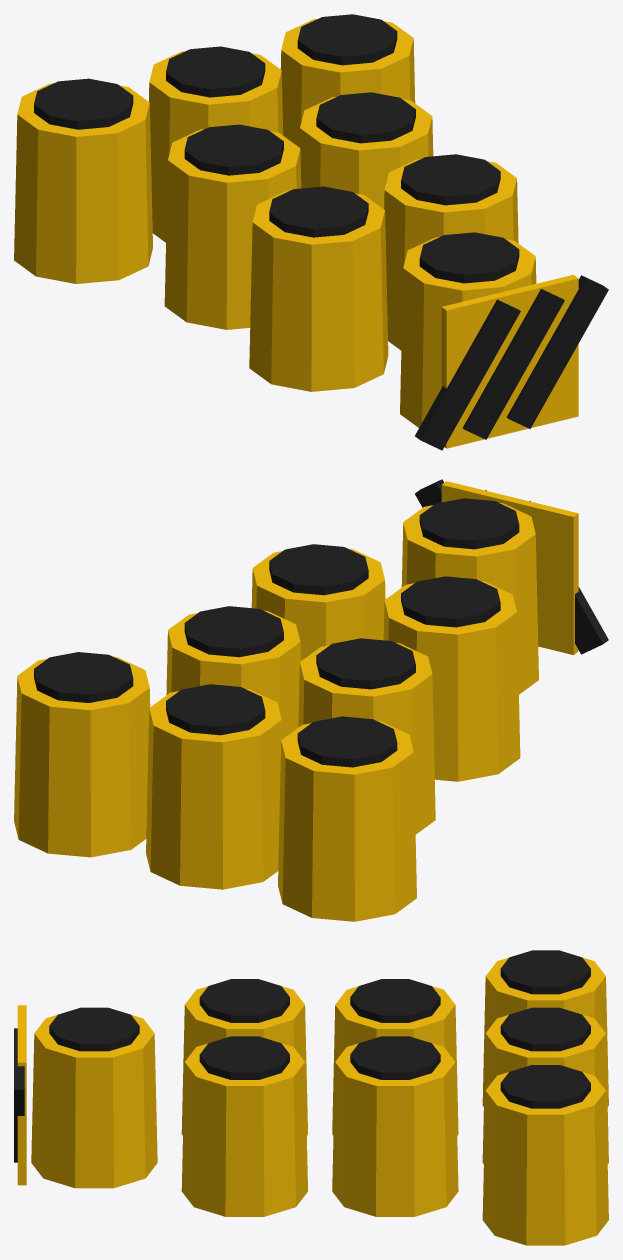
File: exits_cushion.glb
The picture shows the model from 3 angles, top to bottom: view 1: azimuth 30°, elevation 25°; view 2: azimuth 150°, elevation 25°; view 3: azimuth 270°, elevation 25°; orthographic projection. The views are drawn at different scales.
Visible parts, largest first — view 1: ExitsCushion_body; view 2: ExitsCushion_body; view 3: ExitsCushion_body.
Boxes of the visible parts, x1,y1,x2,y2 form: ExitsCushion_body: (14,14,608,450); ExitsCushion_body: (14,479,608,921); ExitsCushion_body: (14,950,608,1245).
Bounding box in the file's own units: 2.6 × 1 × 3.96.
